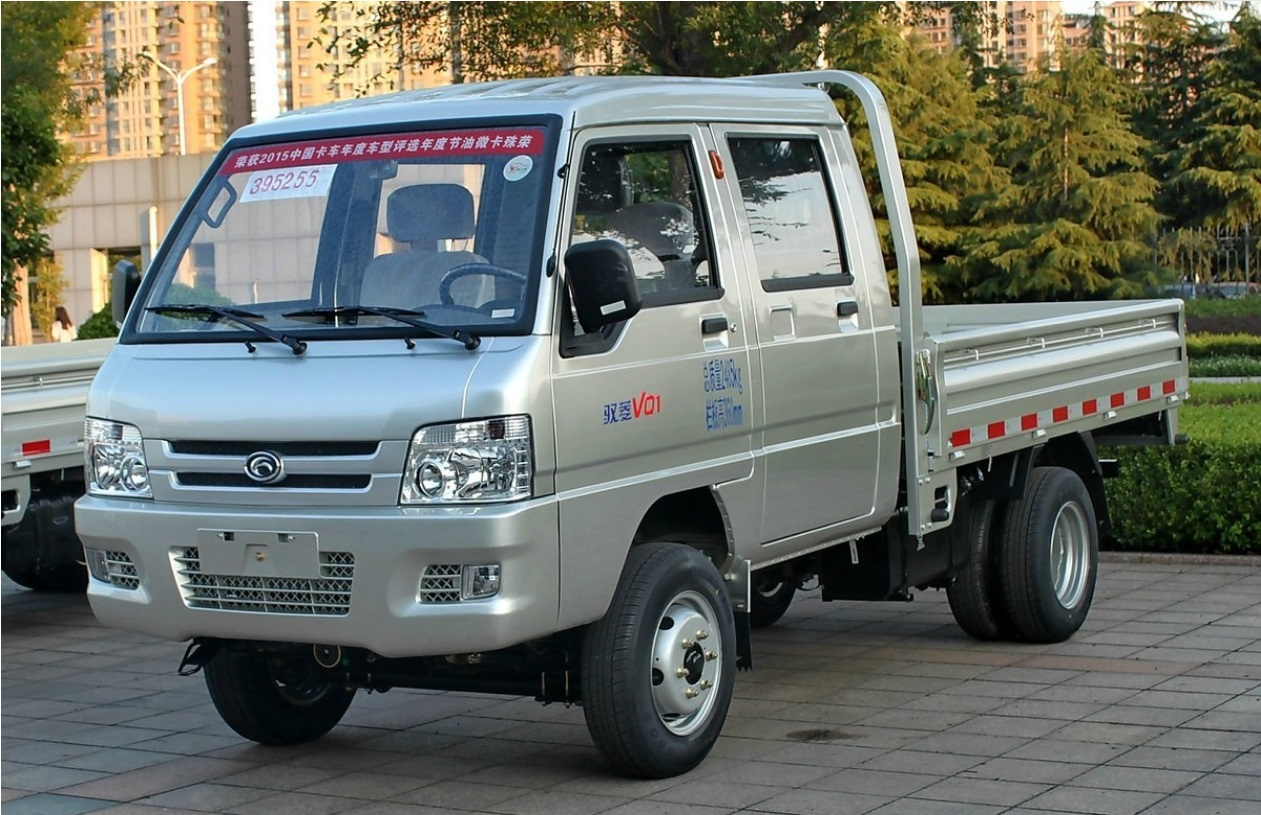truck: (61, 64, 1201, 748)
